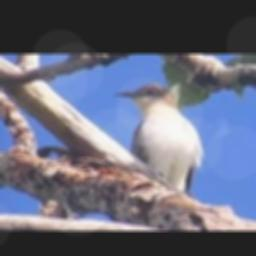Cuckoo: (112, 84, 203, 194)
